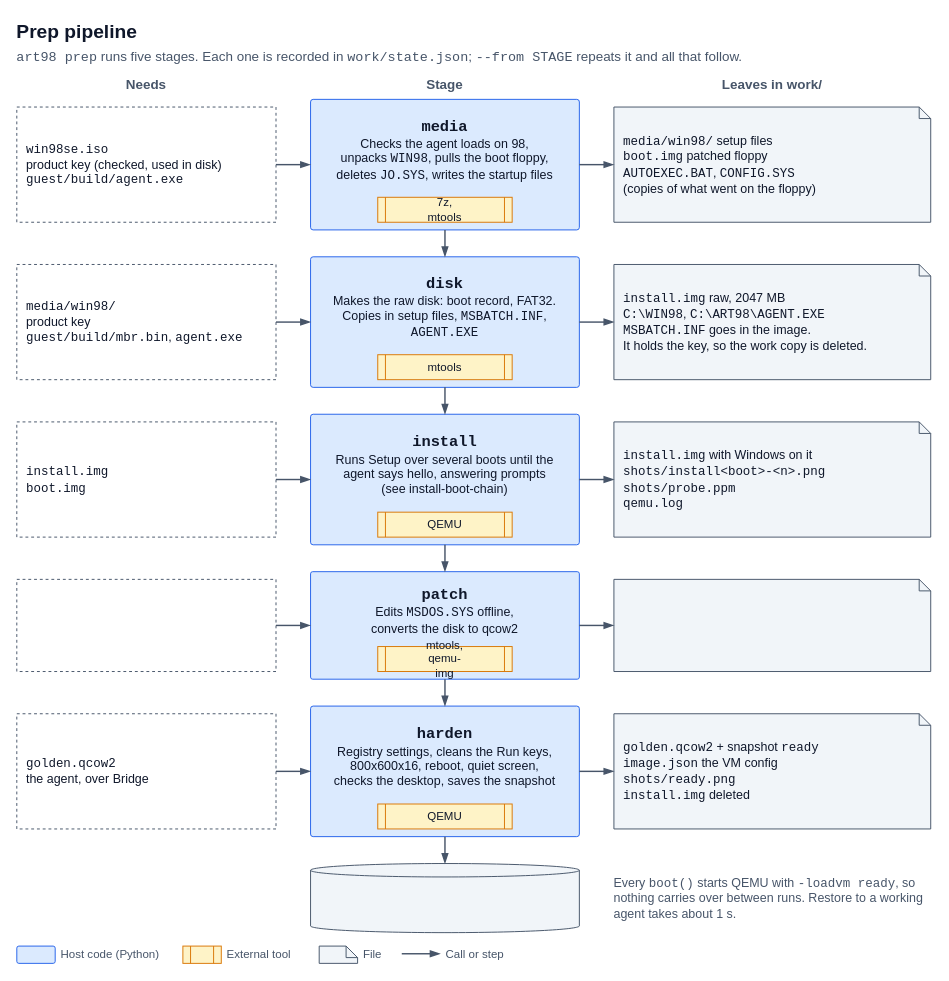
The diagram is 949 pixels wide and 981 high, and some of its shapes have lost their labels. Here are the shapes that lost their labels. From the top down, the box of each, then its label:
(16, 578, 276, 672): install.img
(613, 578, 931, 672): golden.qcow2 install.img stays until harden ends
(310, 863, 579, 933): golden.qcow2 snapshot ready , with image.json
